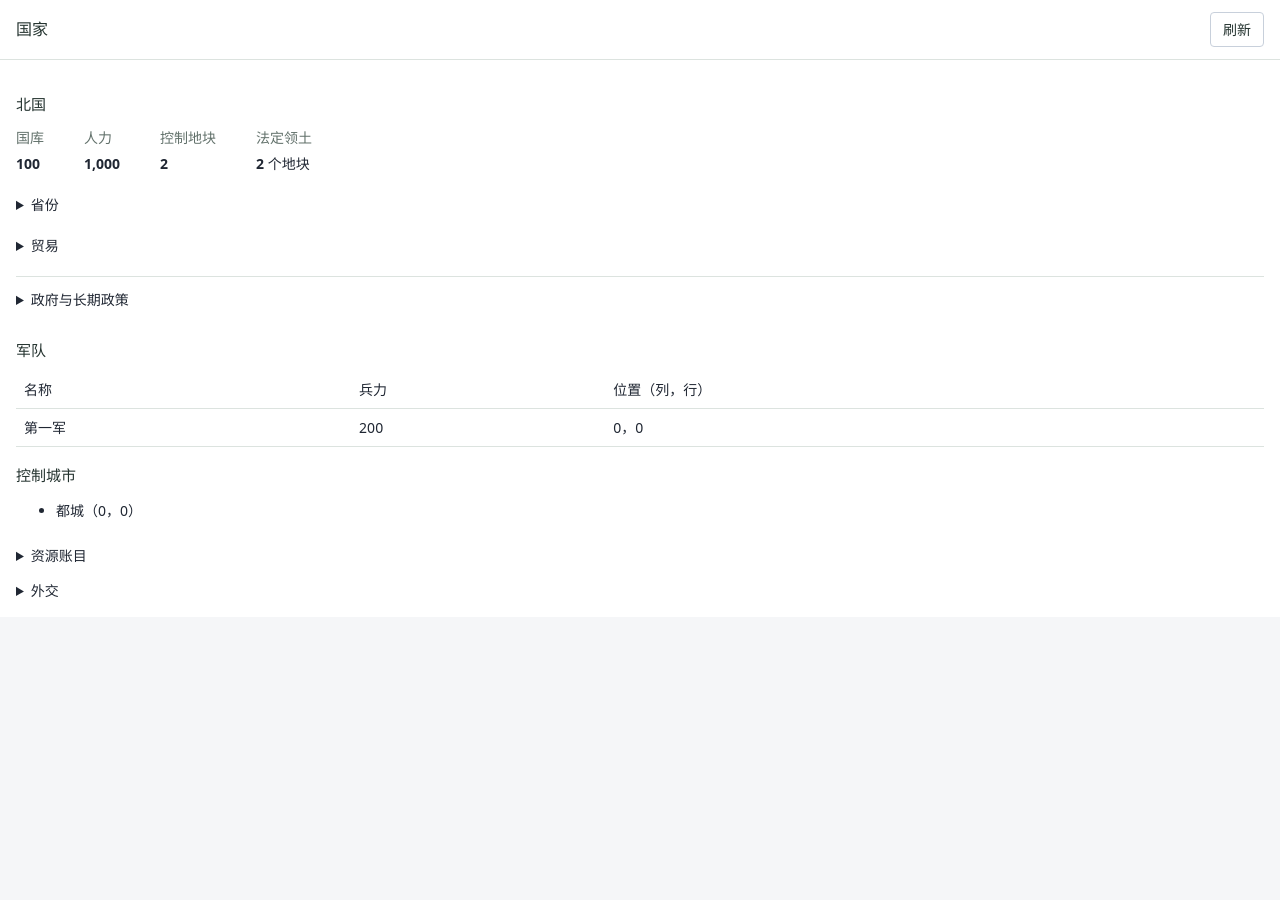
Test: shows own military truth and paginates private ledger without exposing setup controls
This screenshot has width=1280, height=900.
Expected: the text "第一军" is shown, x1=16 y1=408 x2=351 y2=446
Expected: the list item "都城（0，0）" is shown, x1=56 y1=501 x2=142 y2=520
Click the heading "资源账目": x=59, y=556 x1=31 y1=546 x2=87 y2=565
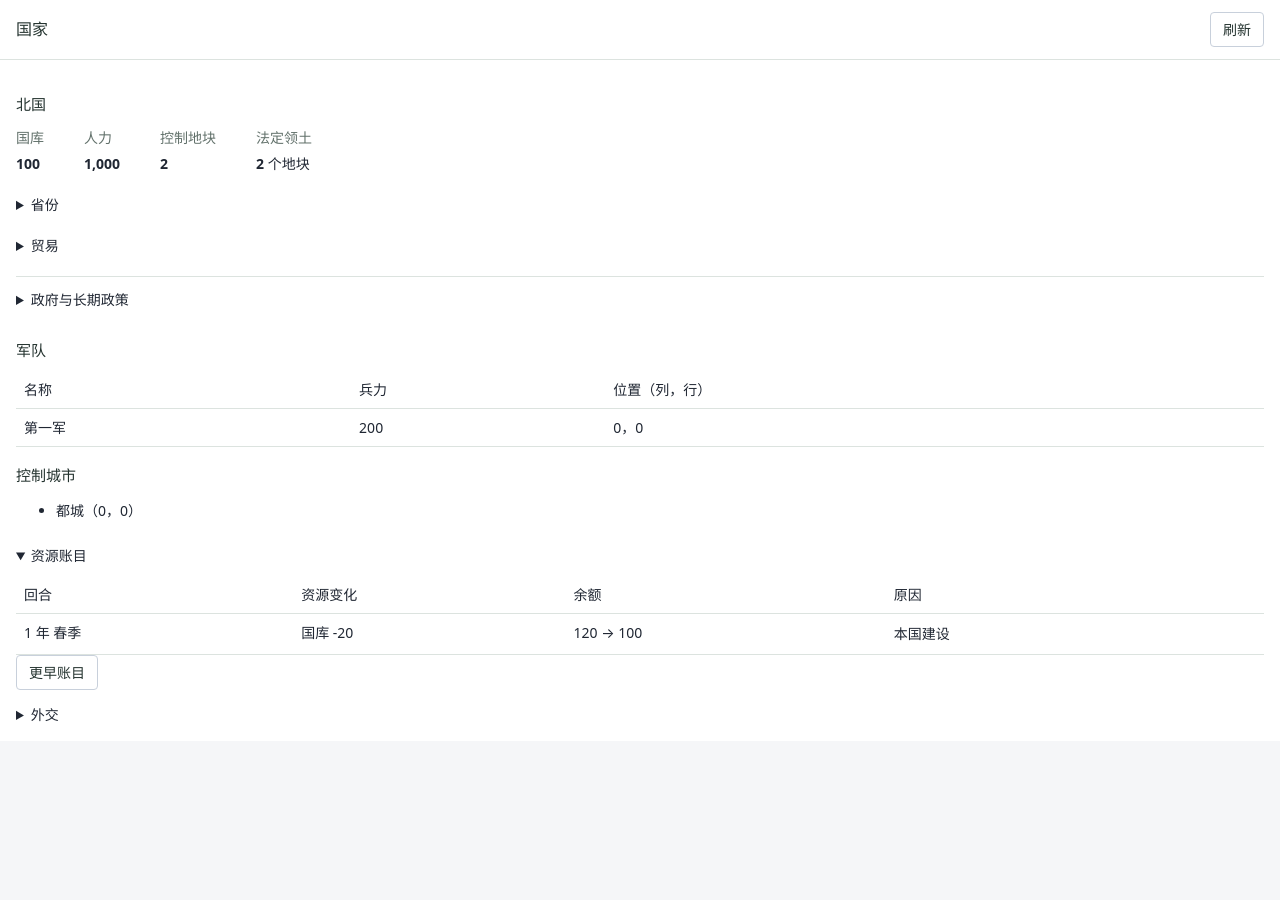
Expected: the text "本国建设" is shown, x1=886 y1=614 x2=1264 y2=654
Click the button "更早账目": x=57, y=672 x1=16 y1=655 x2=98 y2=690
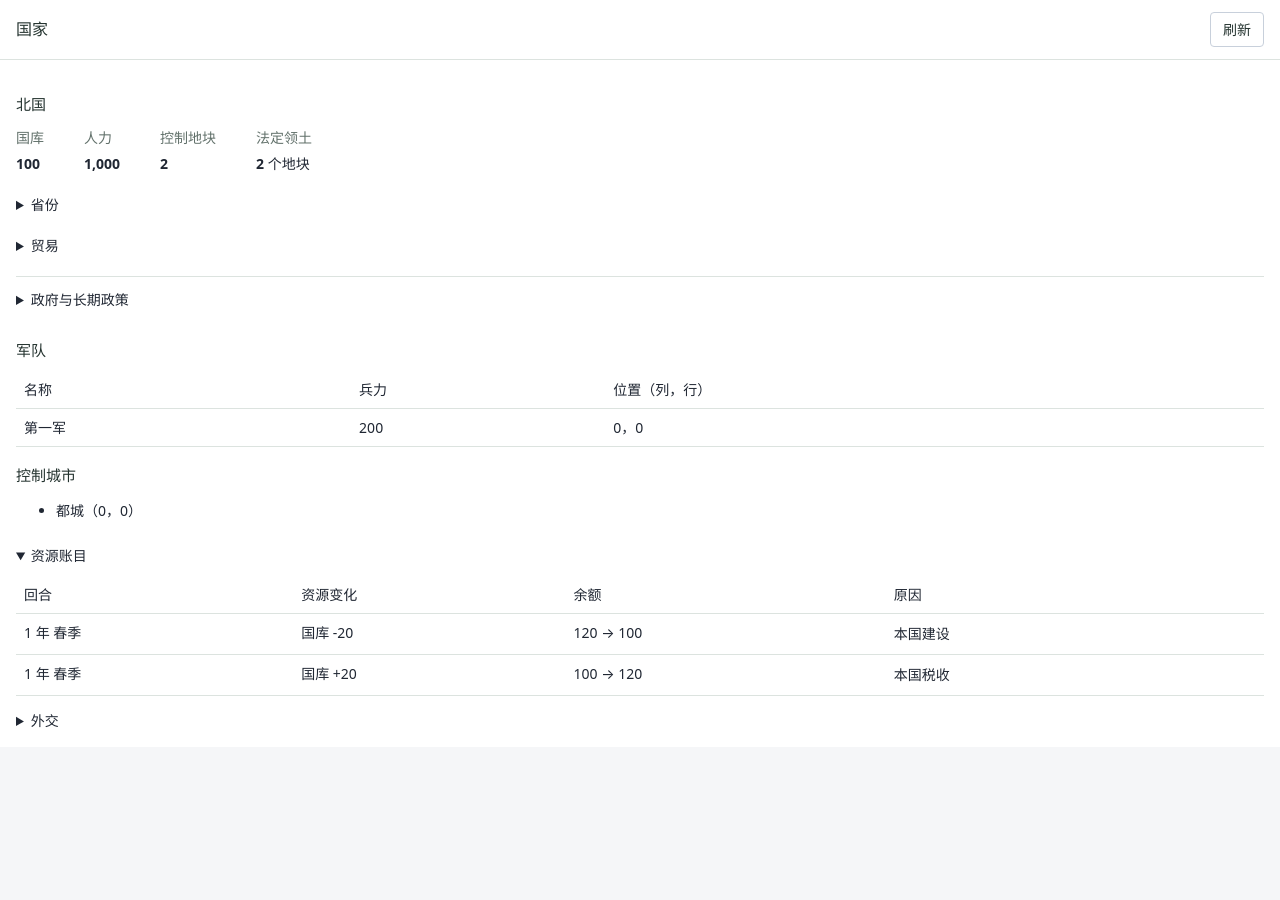
Expected: the text "本国建设" is shown, x1=886 y1=614 x2=1264 y2=654
Expected: the text "本国税收" is shown, x1=886 y1=654 x2=1264 y2=695
